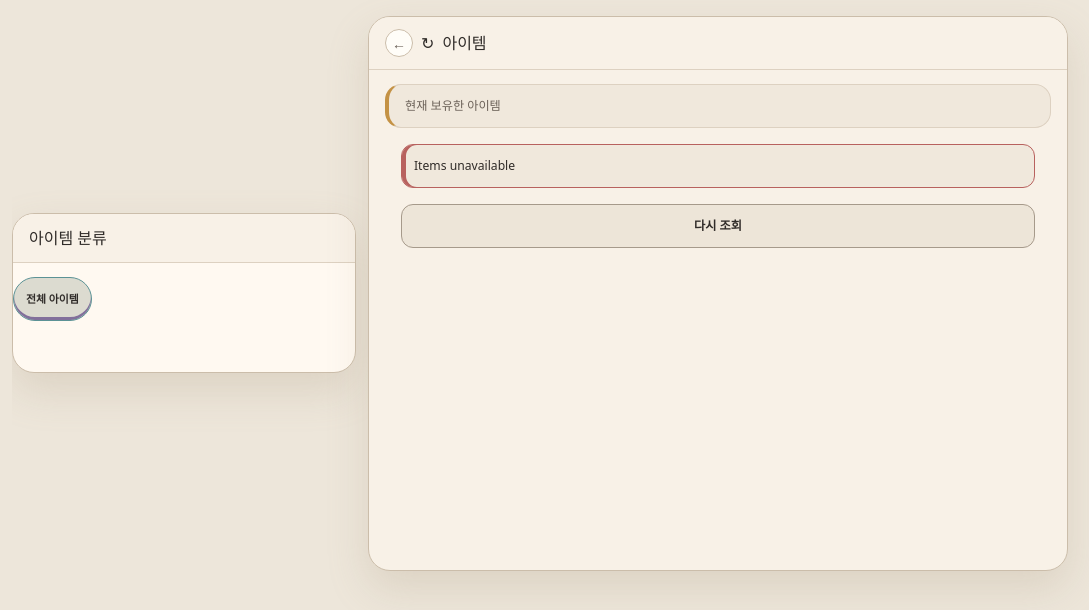
Inventory Items와 Inbox surface를 사용할 때 › Items를 조회하고 itemInstanceId로 선택하면 › error의 Retry가 authoritative empty Items state를 표시한다
This screenshot has width=1089, height=610.
Expected: the message reads "Items unavailable", top-left (414, 157), bottom-right (515, 174)
Step 1. Click the button "다시 조회" → (718,226), box top-left (401, 204), bottom-right (1035, 248)
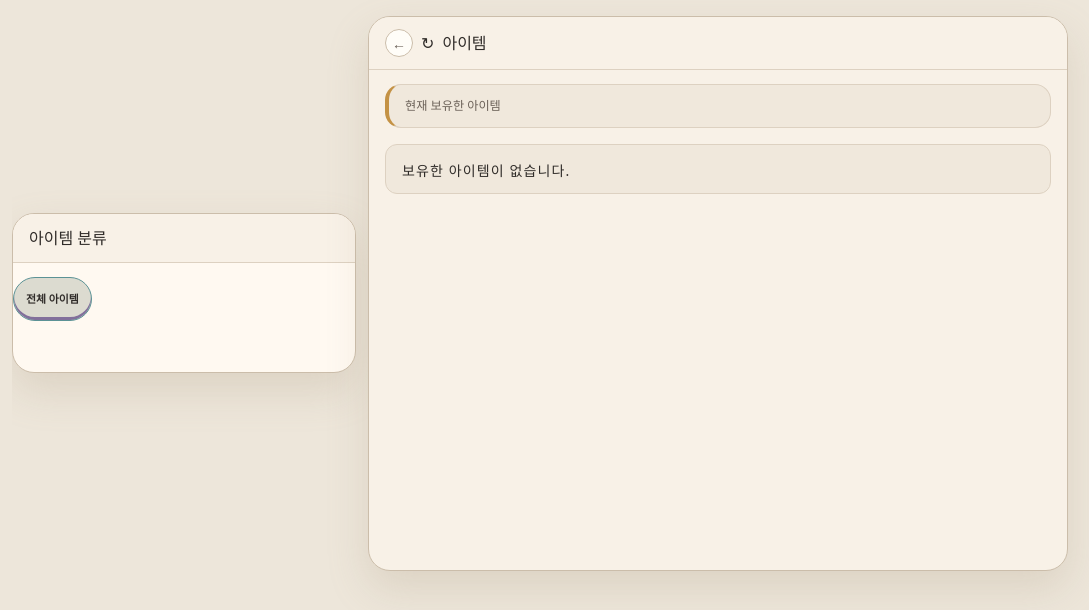
Expected: the text "보유한 아이템이 없습니다." is shown, top-left (402, 161), bottom-right (570, 180)
